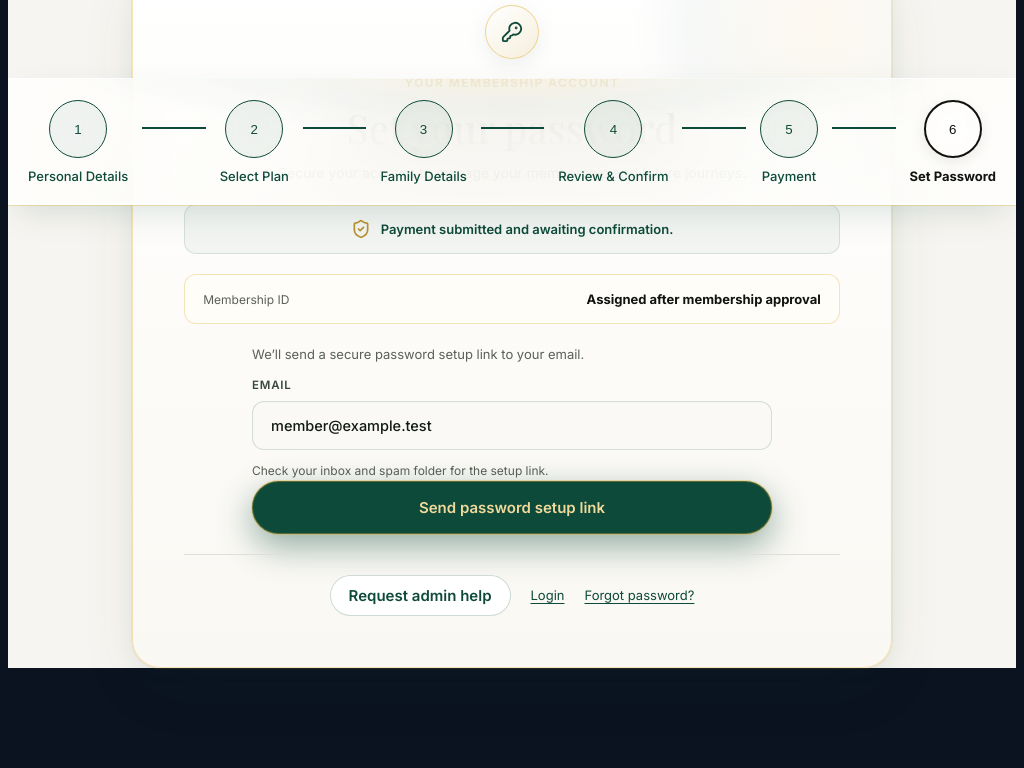
Test: integrated membership application and payment flow › lets step 6 members request admin help and open login or password recovery
(page scrolled)
Expected: the field labelled "Email" holds "member@example.test", [252,401,772,450]
Click the button "Request admin help".
click(420, 595)  # box [330,575,510,616]
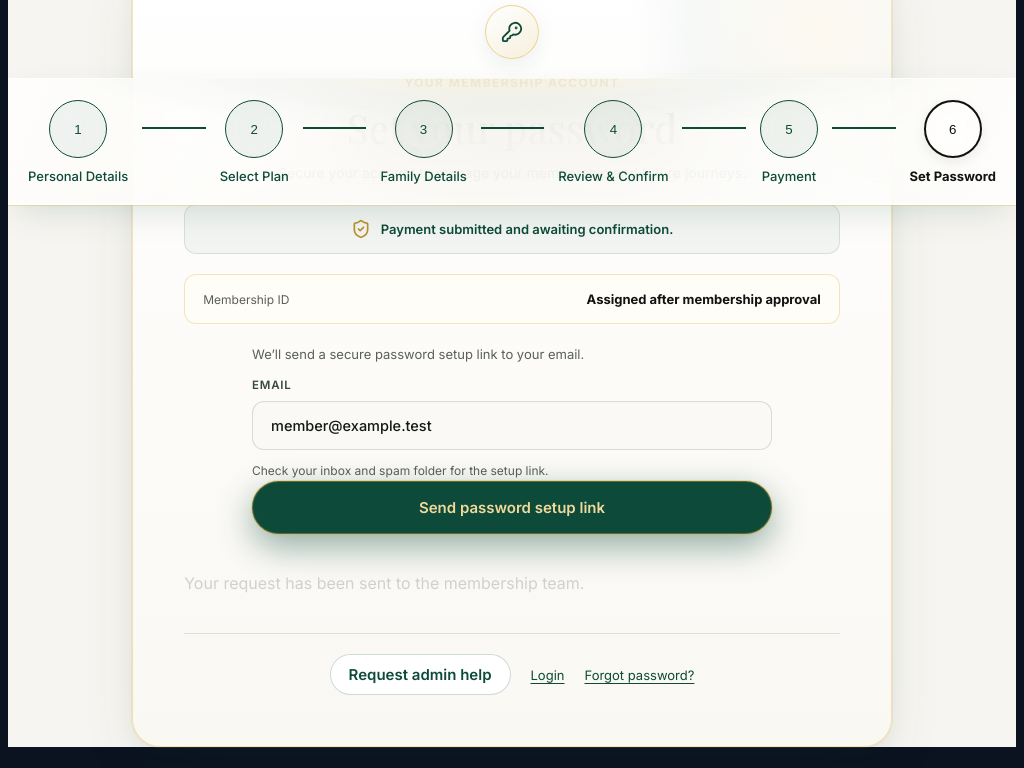
Result: the text "Your request has been sent to the membership team." is shown at [184,573,584,593]
